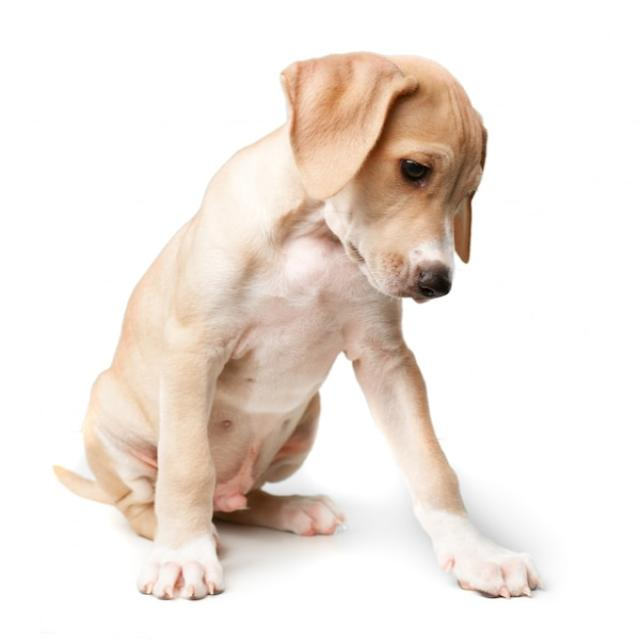Dog: (52, 51, 541, 602)
